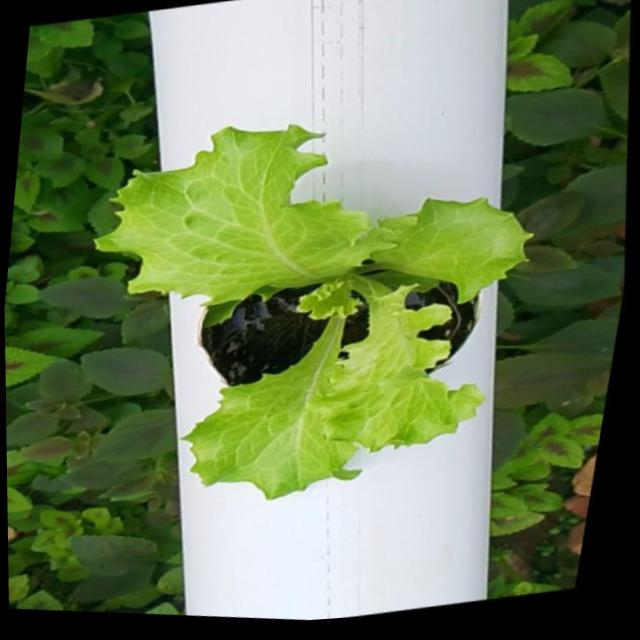Baby: (116, 127, 549, 496)
